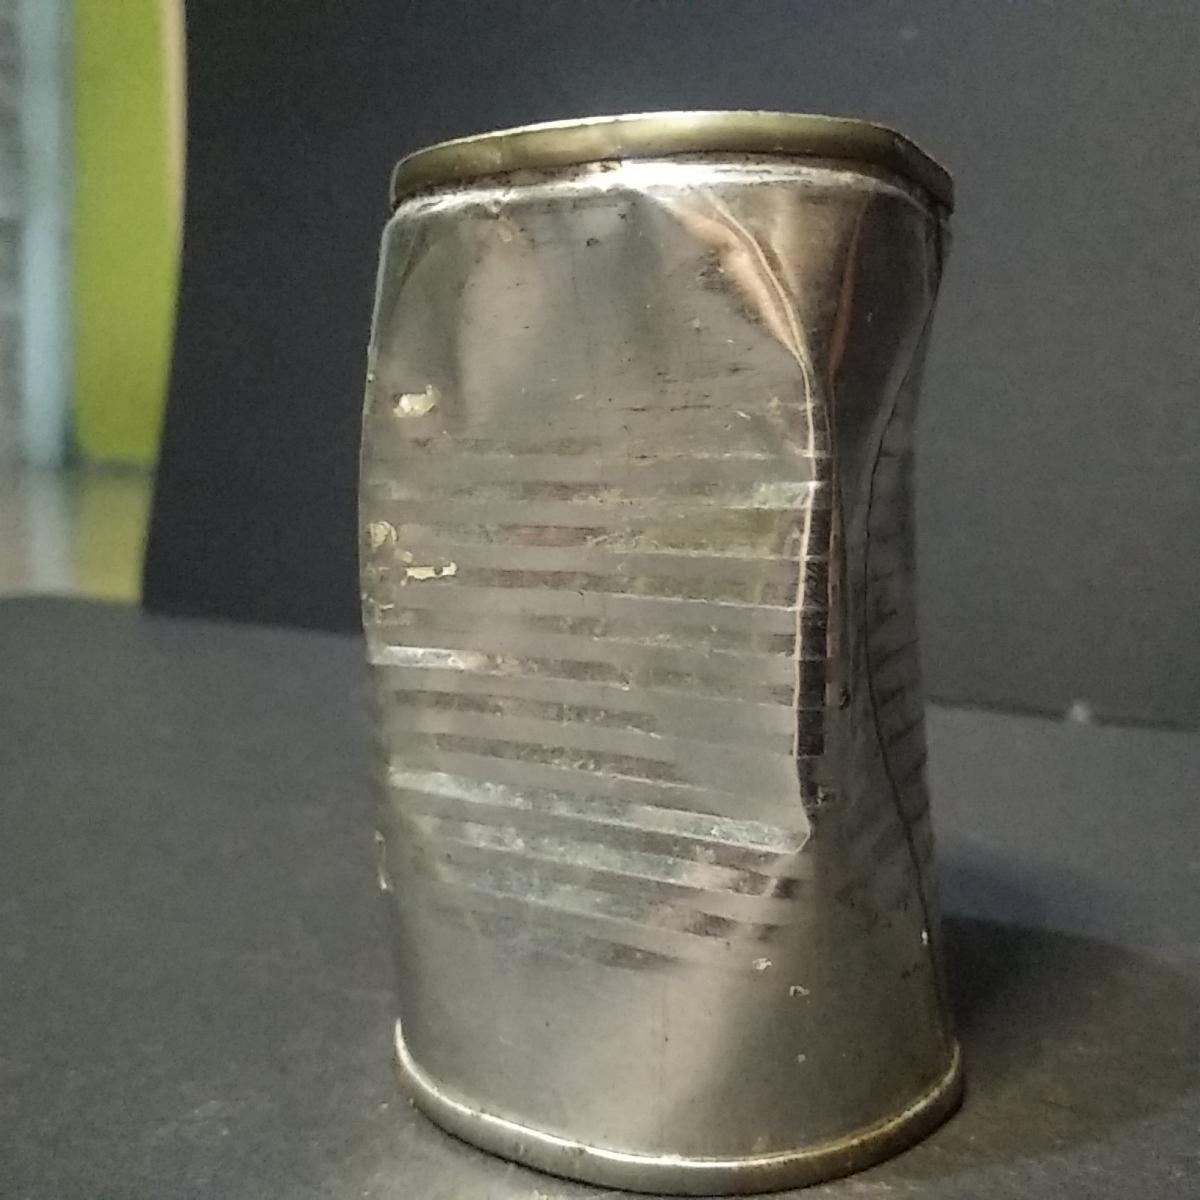Dented: (354, 96, 1000, 1200)
